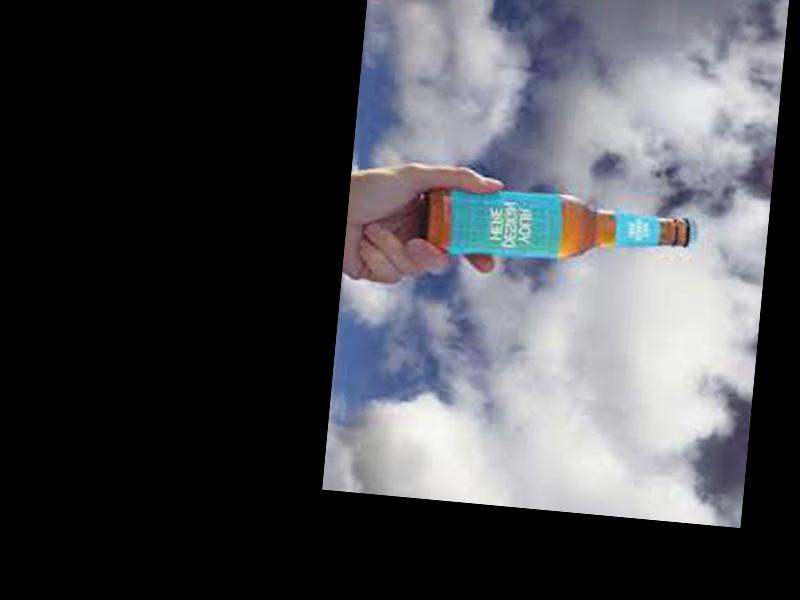Beer: (420, 181, 698, 269)
